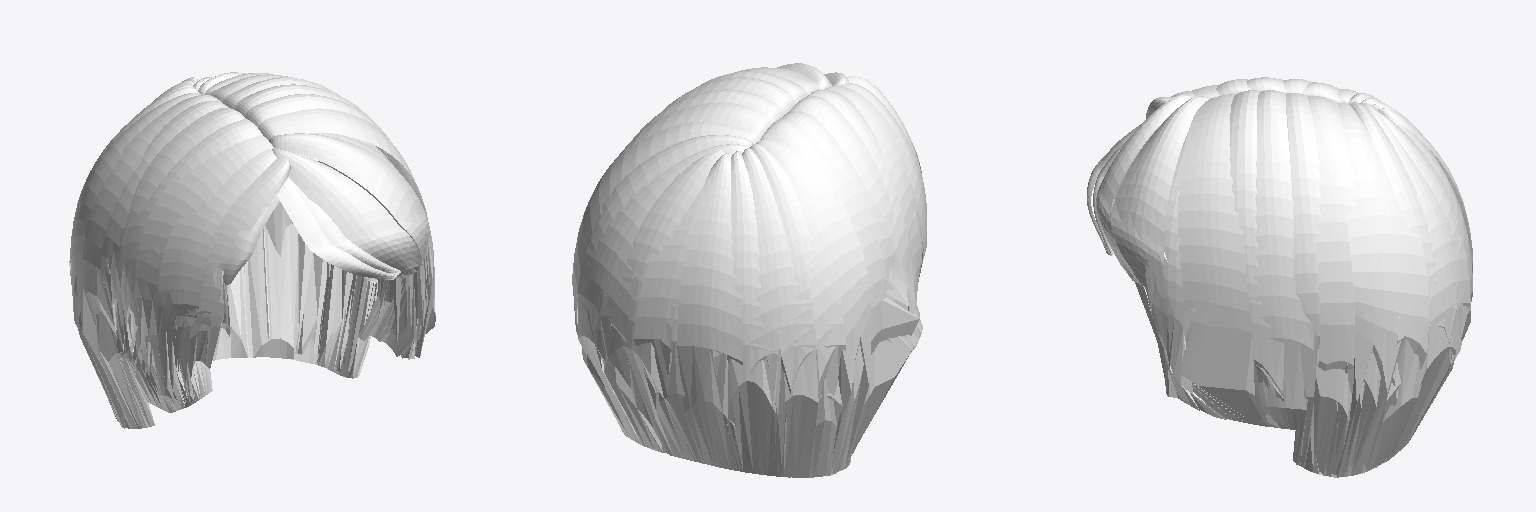
The picture shows the model from 3 angles: view 1: azimuth 30°, elevation 25°; view 2: azimuth 150°, elevation 25°; view 3: azimuth 270°, elevation 25°; orthographic projection.
Parts seen in each view (by area): view 1: T4; view 2: T4; view 3: T4.
Part boxes in pixels (x1,y1,x2,y2): T4: (69, 72, 435, 428); T4: (572, 63, 926, 477); T4: (1087, 77, 1472, 477).
Size of the model in its own units: 0.0786 by 0.0853 by 0.0896.